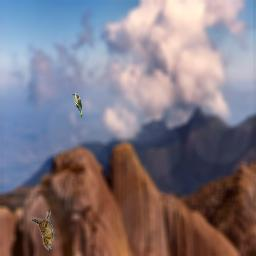Cuckoo: (71, 93, 82, 118)
Sparrow: (30, 211, 55, 251)
